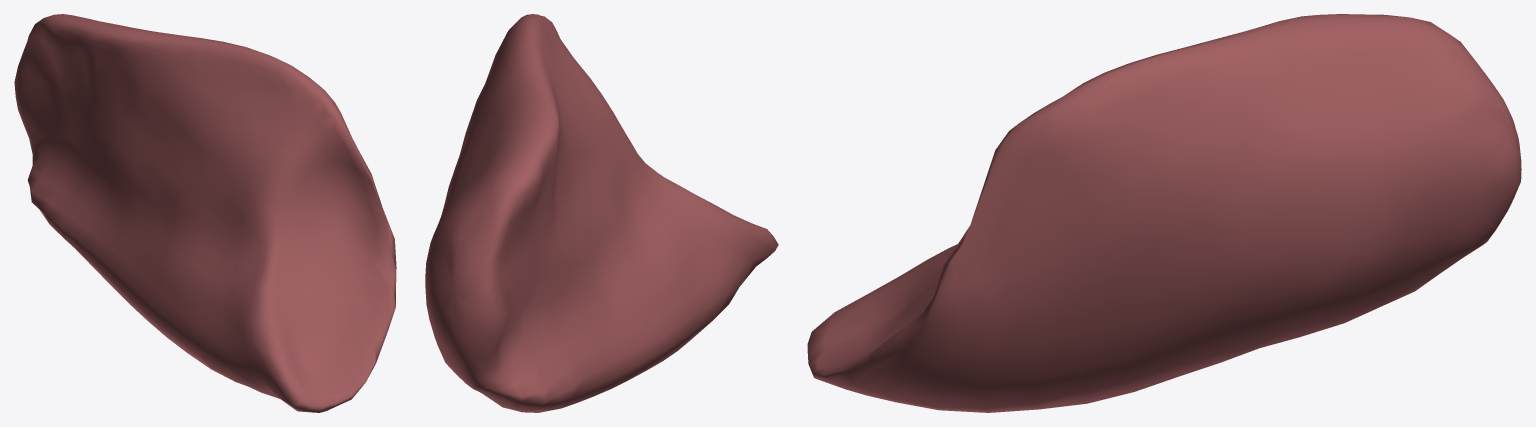
File: Lung_Left_Label_Mesh.FBX
3 renders of one model, left to right at view 1: azimuth 30°, elevation 25°; view 2: azimuth 150°, elevation 25°; view 3: azimuth 270°, elevation 25°, orthographic. The views are drawn at different scales.
Visible parts, largest first — view 1: Left_lung_inner0; view 2: Left_lung_inner0; view 3: Left_lung_inner0.
Part boxes in pixels (x1,y1,x2,y2): Left_lung_inner0: (14,14,396,412); Left_lung_inner0: (425,14,778,412); Left_lung_inner0: (807,14,1521,412).
Size of the model in its own units: 91.38 by 232 by 131.
